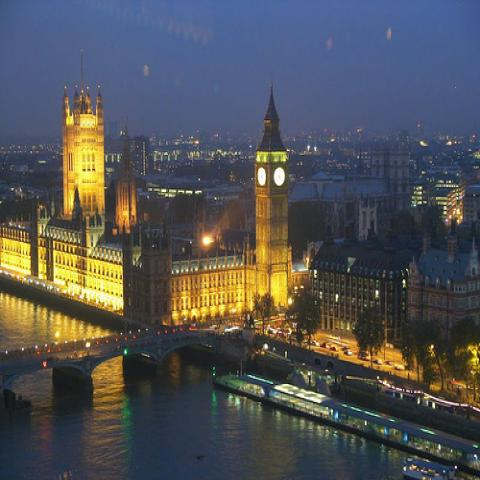car: (395, 364, 407, 370), (373, 359, 383, 365), (323, 342, 330, 350), (330, 346, 339, 352), (344, 350, 352, 356)
